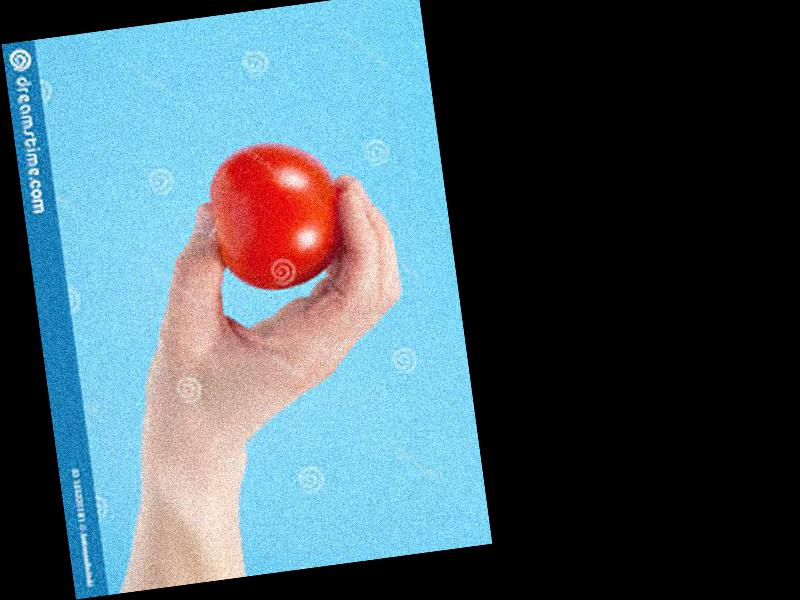Tomato: (204, 135, 352, 295)
